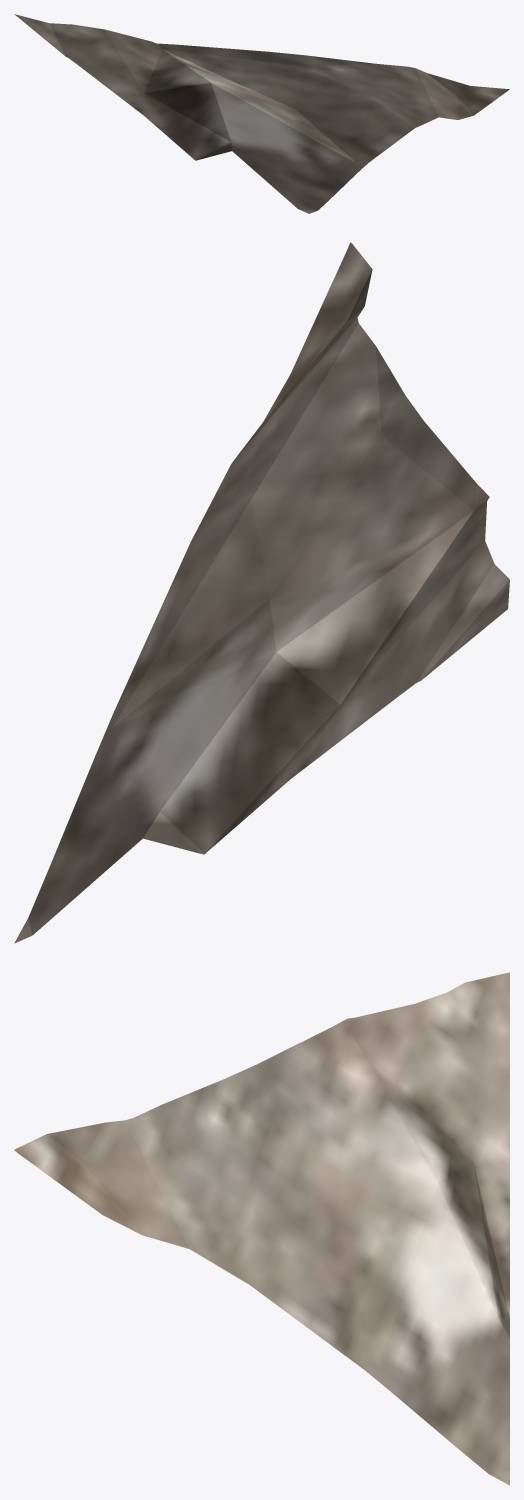
The picture shows the model from 3 angles, top to bottom: view 1: azimuth 30°, elevation 25°; view 2: azimuth 150°, elevation 25°; view 3: azimuth 270°, elevation 25°; orthographic projection. The views are drawn at different scales.
Size of the model in its own units: 0.8361 by 0.7363 by 0.9861.
Materials: 1 (1 with a texture image).
